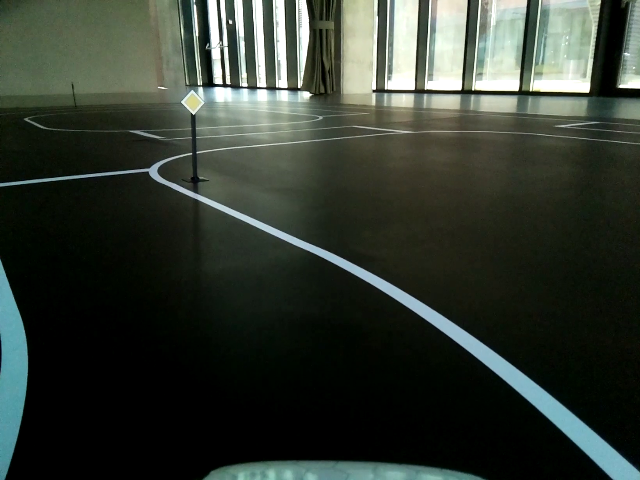priority: (183, 92, 206, 116)
